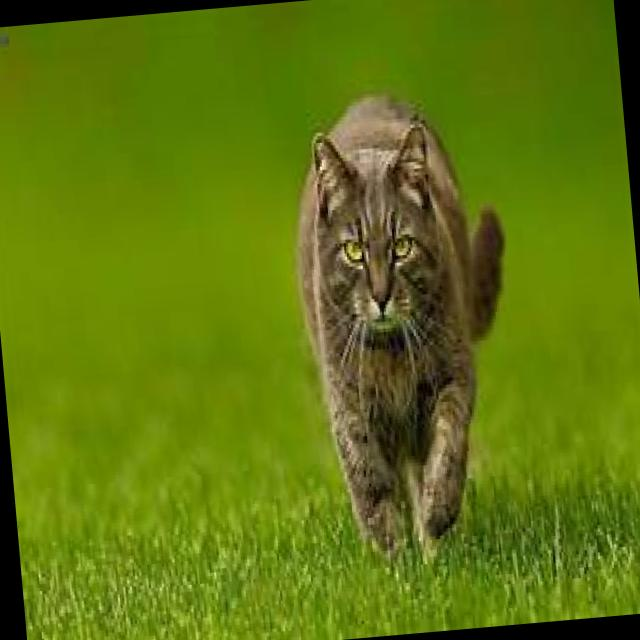animal: (279, 74, 533, 566)
